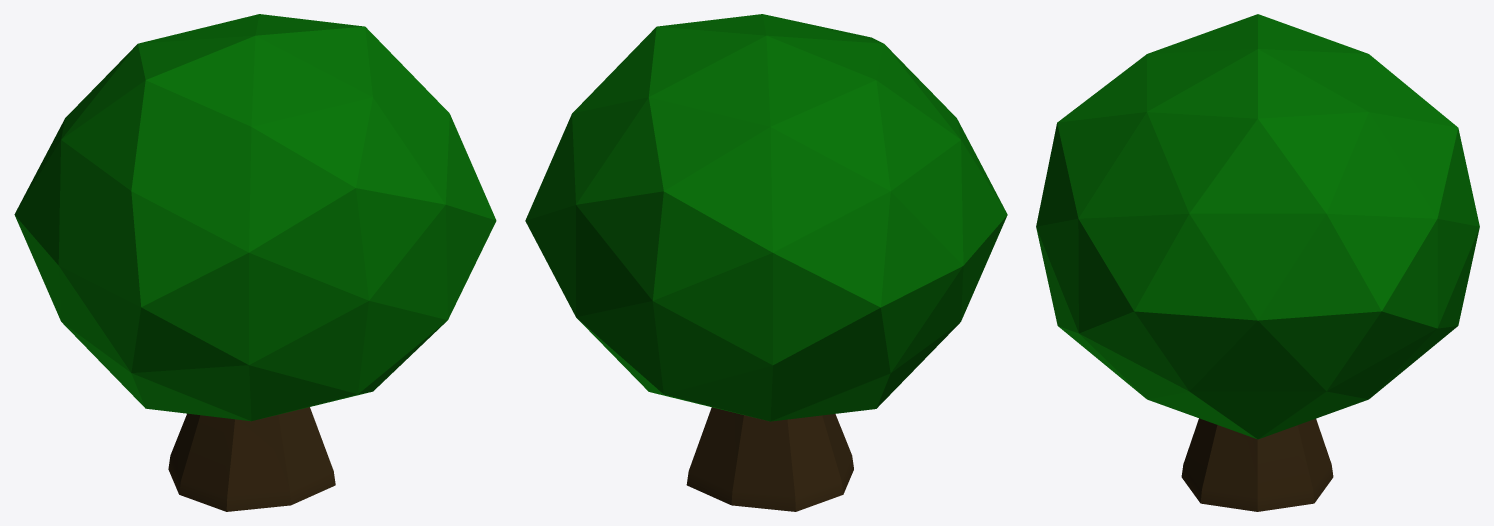
File: BushGreen1.fbx
The picture shows the model from 3 angles, left to right: view 1: azimuth 30°, elevation 25°; view 2: azimuth 150°, elevation 25°; view 3: azimuth 270°, elevation 25°; orthographic projection. The views are drawn at different scales.
Parts seen in each view (by area): view 1: BushGreen1; view 2: BushGreen1; view 3: BushGreen1.
Boxes of the visible parts, <box> form: BushGreen1: <box>14,14,496,511</box>; BushGreen1: <box>525,14,1007,511</box>; BushGreen1: <box>1036,14,1479,511</box>.
Bounding box in the file's own units: 1.09 × 1.17 × 1.09.
